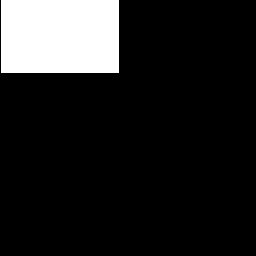rumex: (1, 0, 118, 72)
